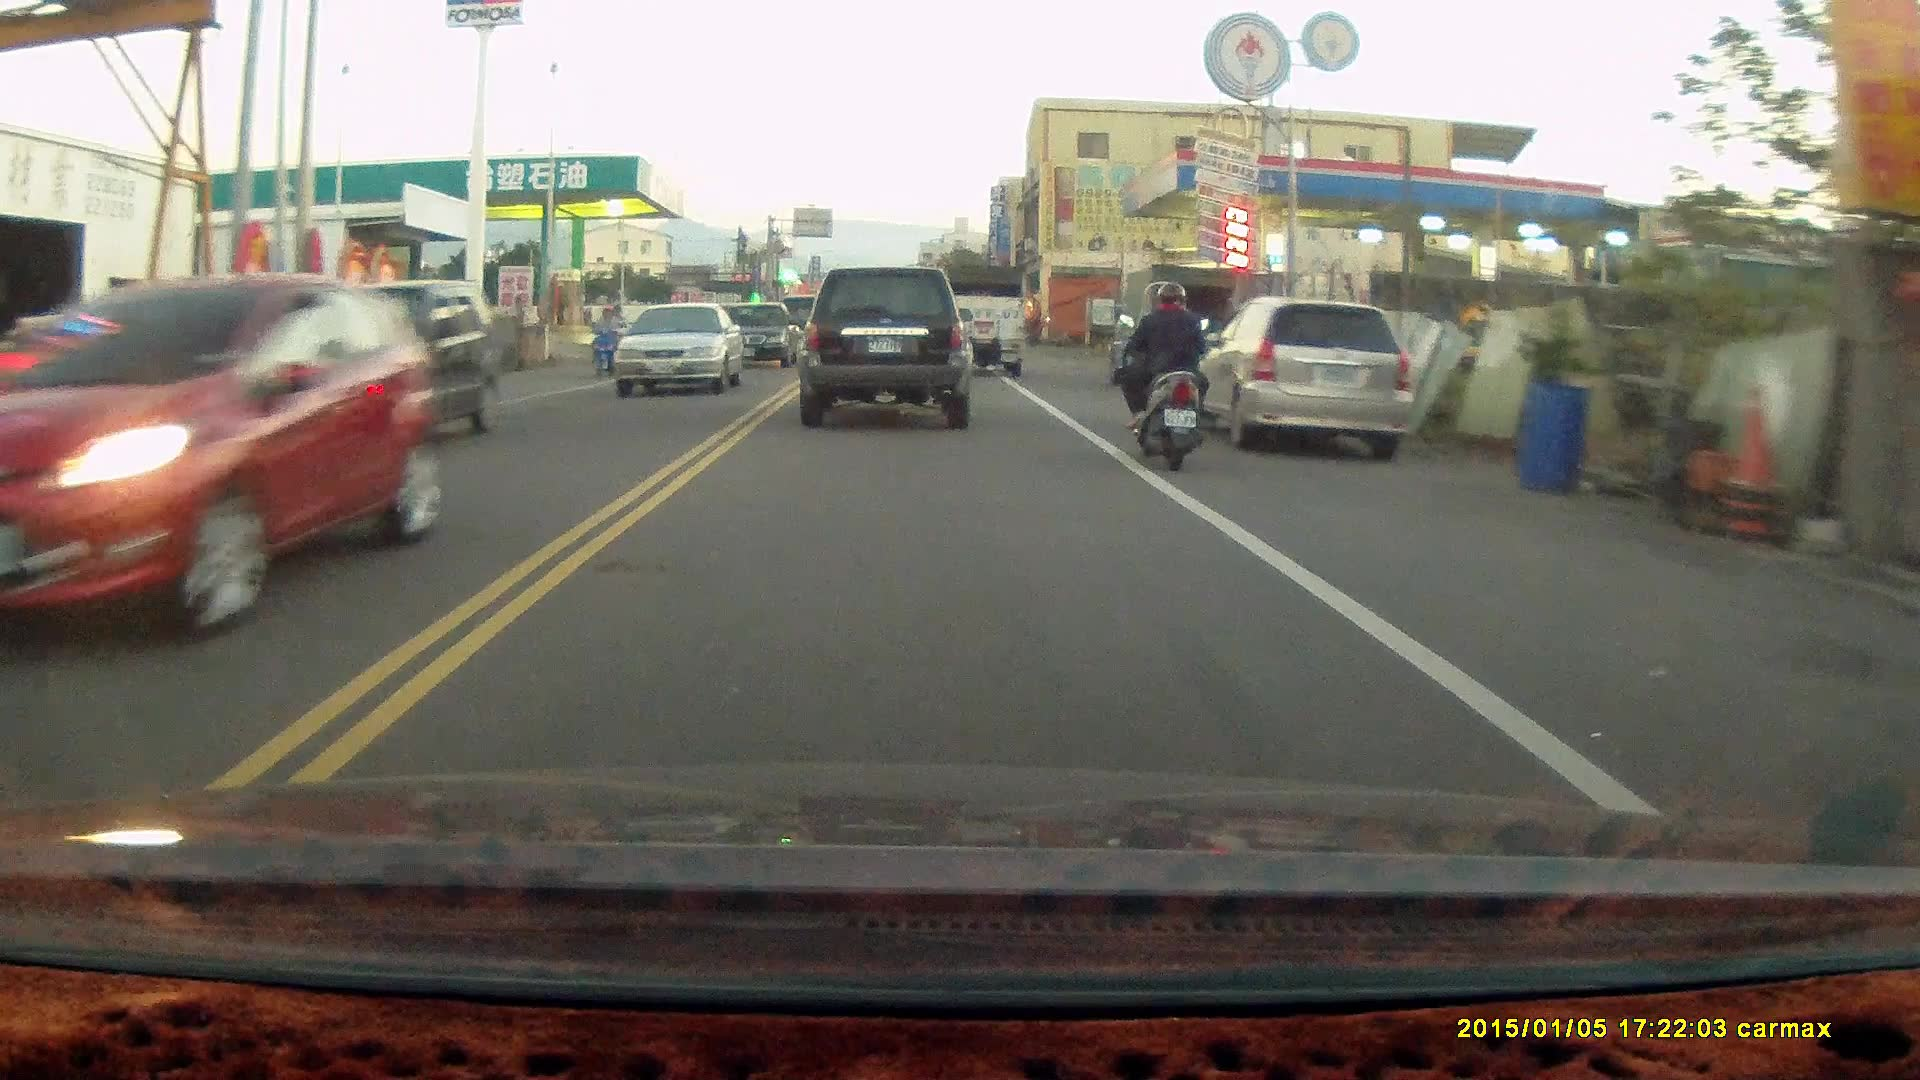rider: (1113, 275, 1210, 463), (585, 301, 631, 381)
vehicle: (1, 268, 446, 643), (253, 275, 497, 459), (1201, 294, 1423, 462), (794, 265, 972, 430), (1109, 261, 1241, 382), (611, 301, 748, 396), (937, 259, 1024, 376), (720, 300, 802, 367)
